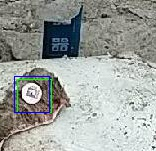text: (17, 79, 51, 112)
